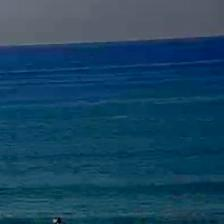surfer: (54, 217, 66, 223)
